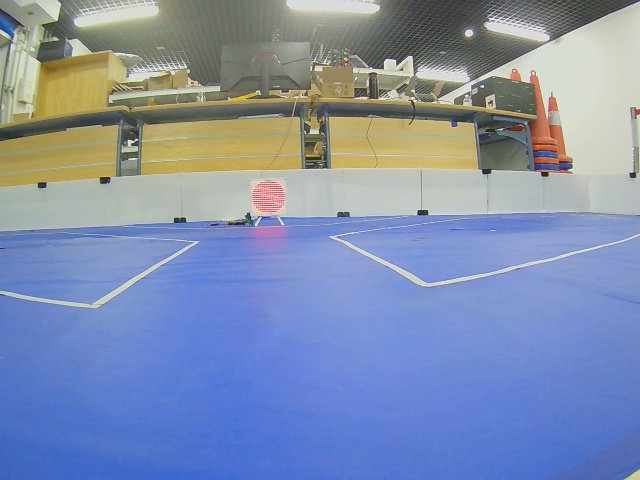red: (251, 179, 286, 216)
